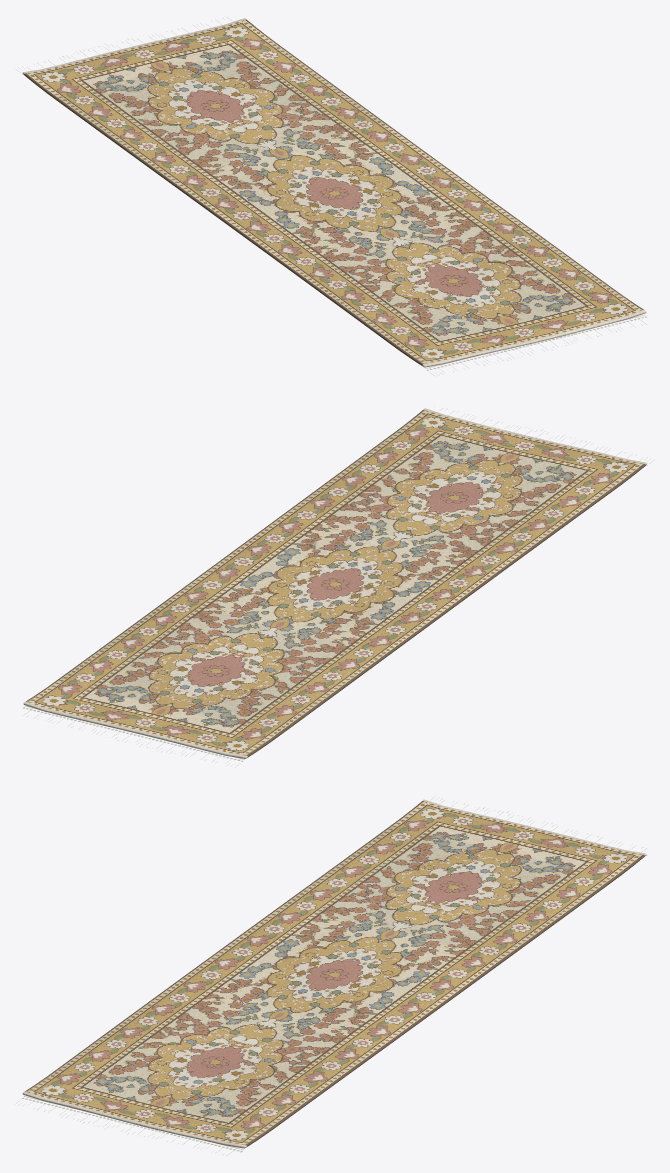
The model's file is rug-tabriz-runner.1fd7bec5.glb.
The picture shows the model from 3 angles, top to bottom: view 1: azimuth 30°, elevation 25°; view 2: azimuth 150°, elevation 25°; view 3: azimuth 330°, elevation 25°; orthographic projection.
Visible parts, largest first — view 1: rug-tabriz-runner, rug-tabriz-runner-fringe; view 2: rug-tabriz-runner, rug-tabriz-runner-fringe; view 3: rug-tabriz-runner, rug-tabriz-runner-fringe.
Part boxes in pixels (x1=…): rug-tabriz-runner: x1=22, y1=18, x2=646, y2=367; rug-tabriz-runner-fringe: x1=16, y1=17, x2=646, y2=376; rug-tabriz-runner: x1=23, y1=408, x2=647, y2=758; rug-tabriz-runner-fringe: x1=23, y1=408, x2=653, y2=766; rug-tabriz-runner: x1=22, y1=799, x2=646, y2=1148; rug-tabriz-runner-fringe: x1=16, y1=796, x2=647, y2=1155.
Bounding box in the file's own units: 0.8 × 0.0176 × 2.66.
2 materials, 2 textured.
